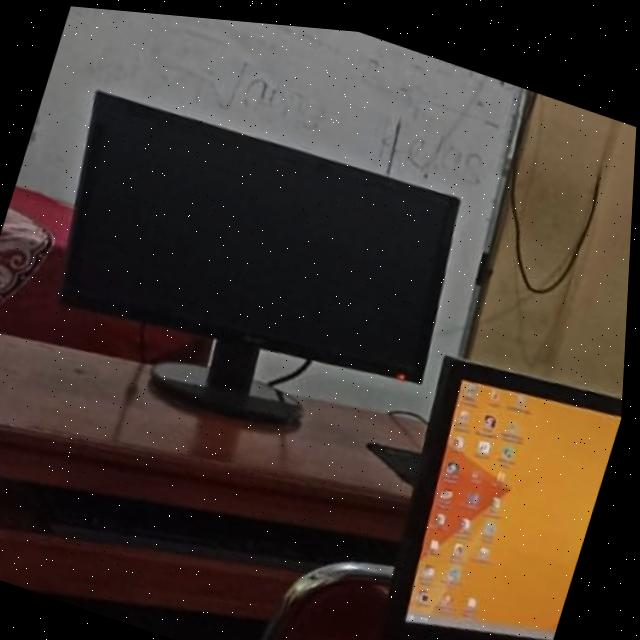offscreen: (390, 351, 626, 640)
onscreen: (65, 89, 460, 373)
